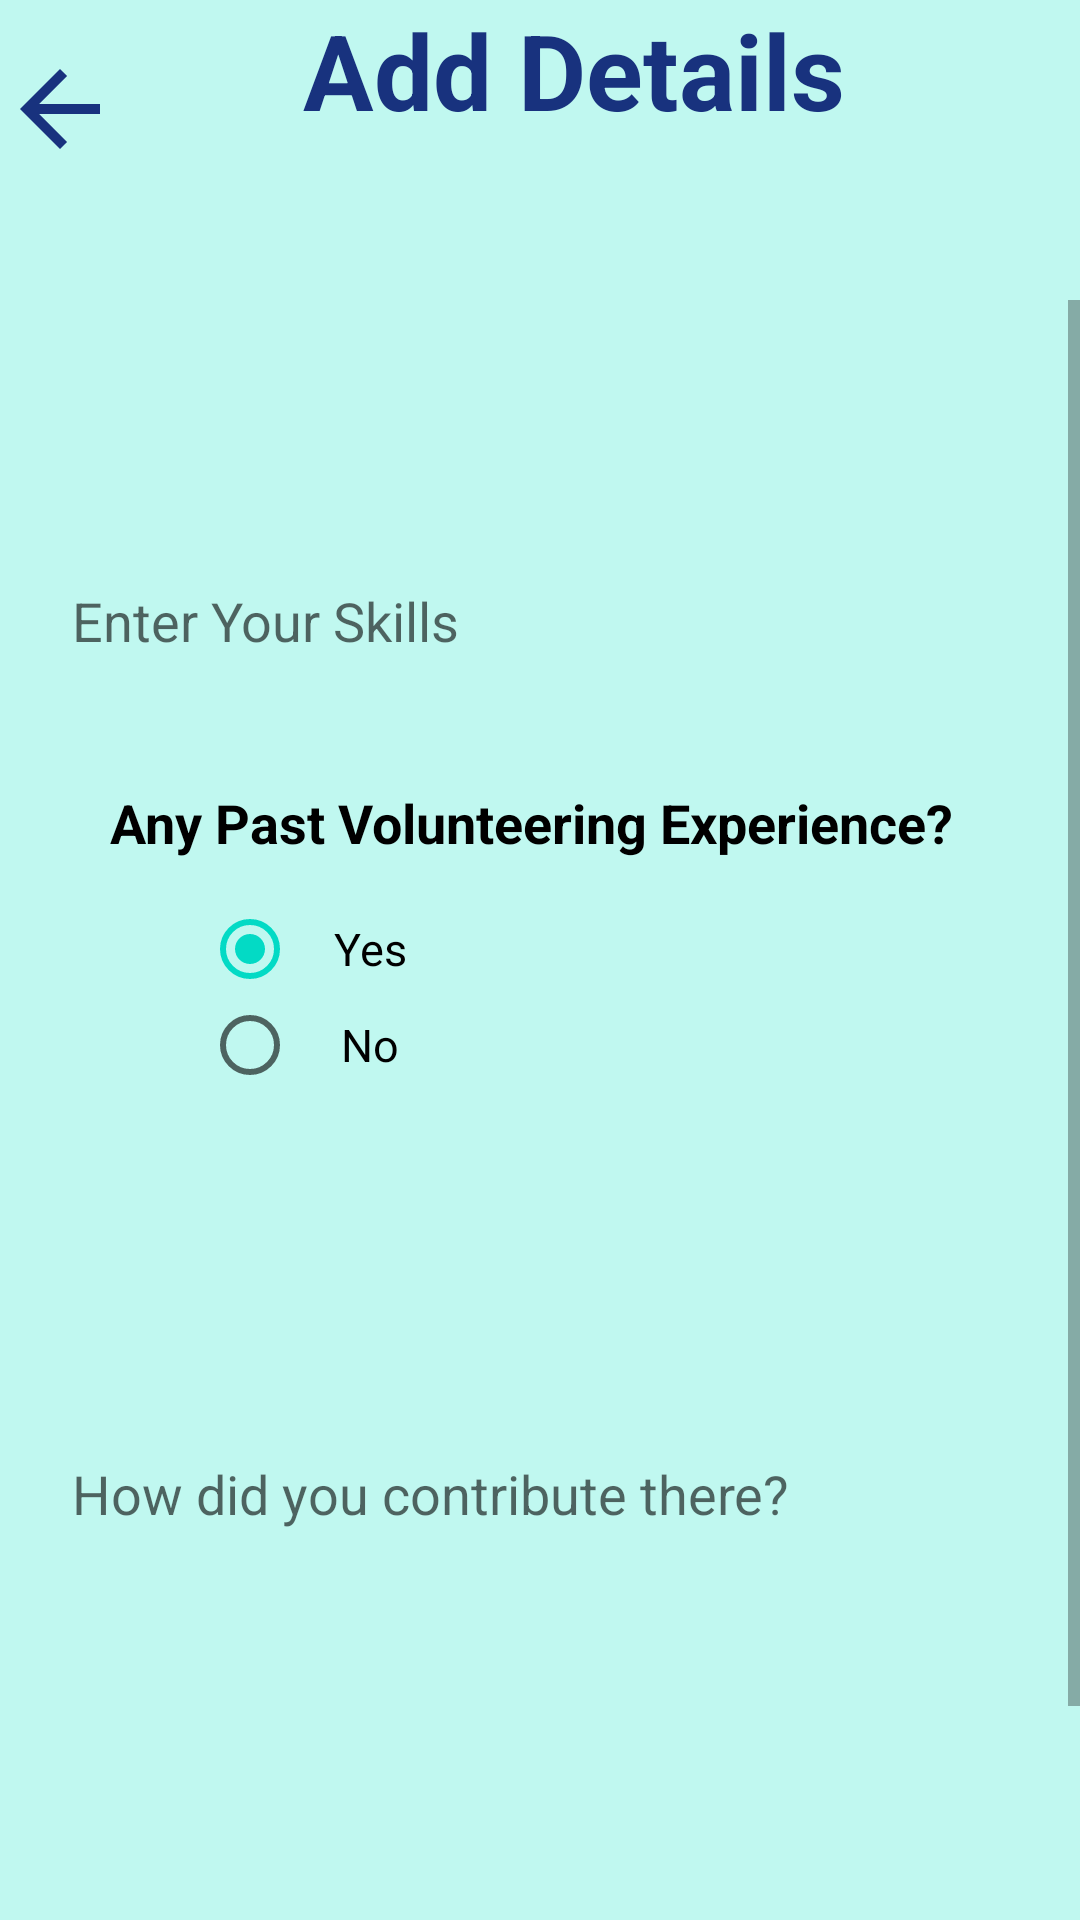

Screen size 1080w x 1920h. Icon name, then its box in pixels as rect(x1, y1, x2, y2):
back: rect(20, 69, 100, 149)
